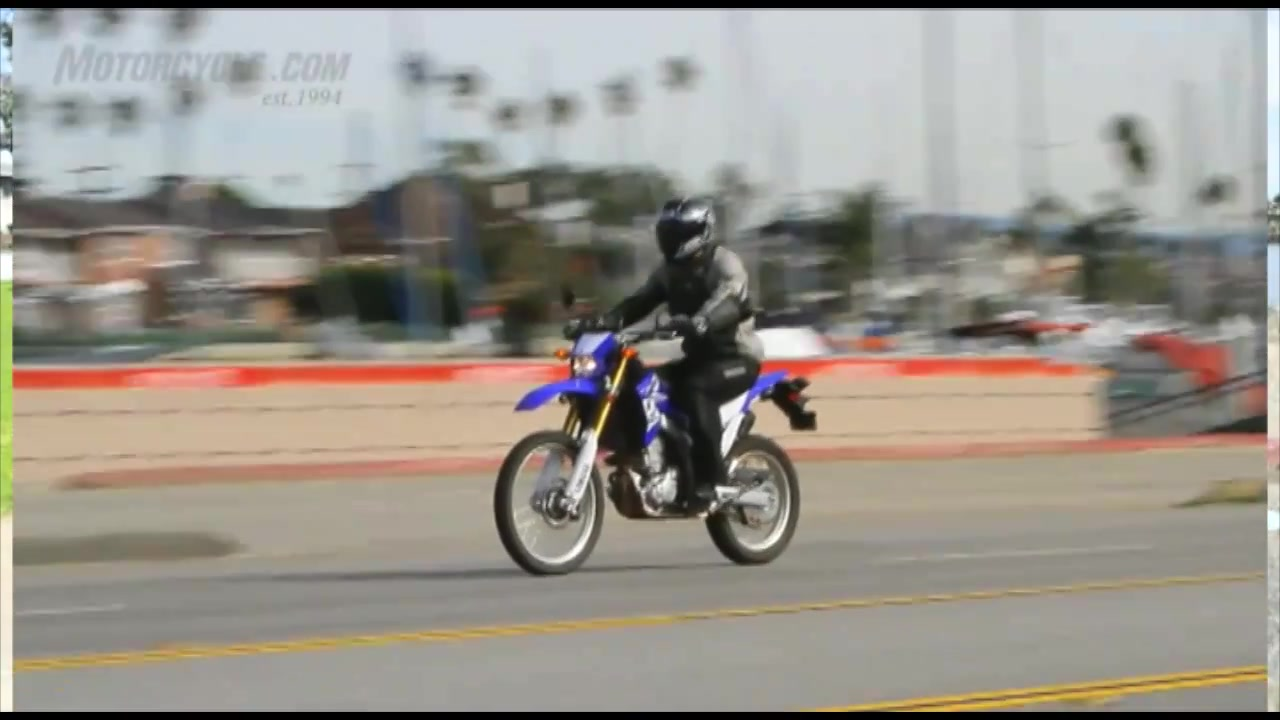motorbike: (494, 313, 814, 574)
